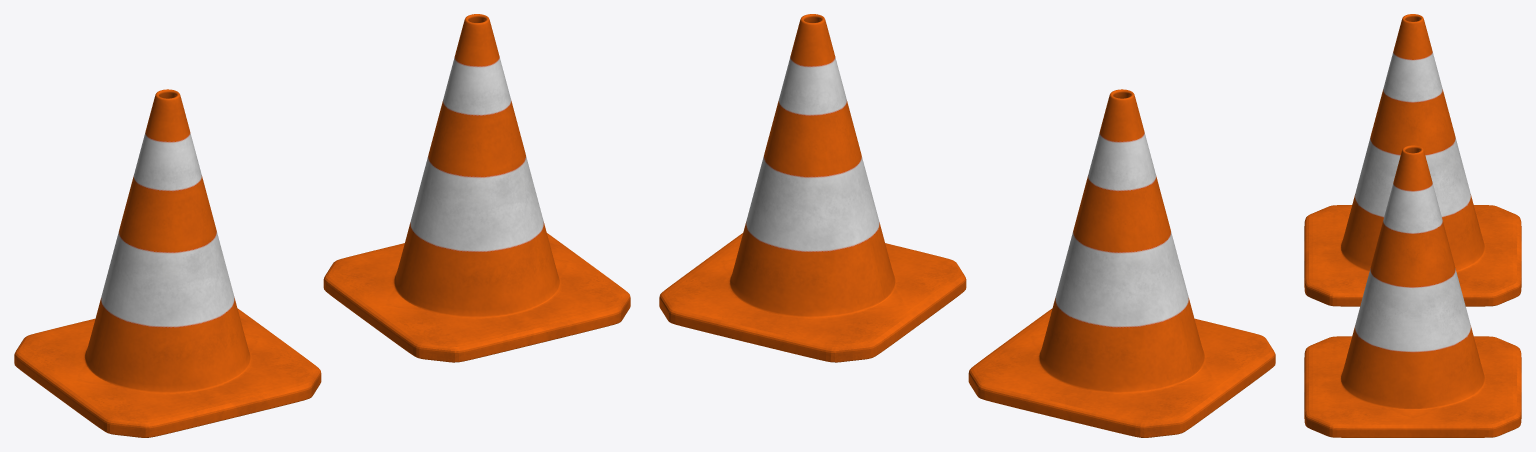
File: TrafficCone.glb
3 renders of one model, left to right at view 1: azimuth 30°, elevation 25°; view 2: azimuth 150°, elevation 25°; view 3: azimuth 270°, elevation 25°, orthographic. The views are drawn at different scales.
Visible parts, largest first — view 1: Cone Normal, Cone Retroreflection; view 2: Cone Normal, Cone Retroreflection; view 3: Cone Normal, Cone Retroreflection.
Boxes of the visible parts, x1=… form: Cone Normal: x1=323, y1=14, x2=630, y2=362; Cone Retroreflection: x1=14, y1=89, x2=321, y2=437; Cone Normal: x1=659, y1=14, x2=966, y2=362; Cone Retroreflection: x1=968, y1=89, x2=1275, y2=437; Cone Normal: x1=1304, y1=145, x2=1521, y2=437; Cone Retroreflection: x1=1304, y1=14, x2=1521, y2=306.
Size of what is drawn, in the model's own units: 1.02 by 0.5188 by 0.42.
Materials: 2 (2 with a texture image).
